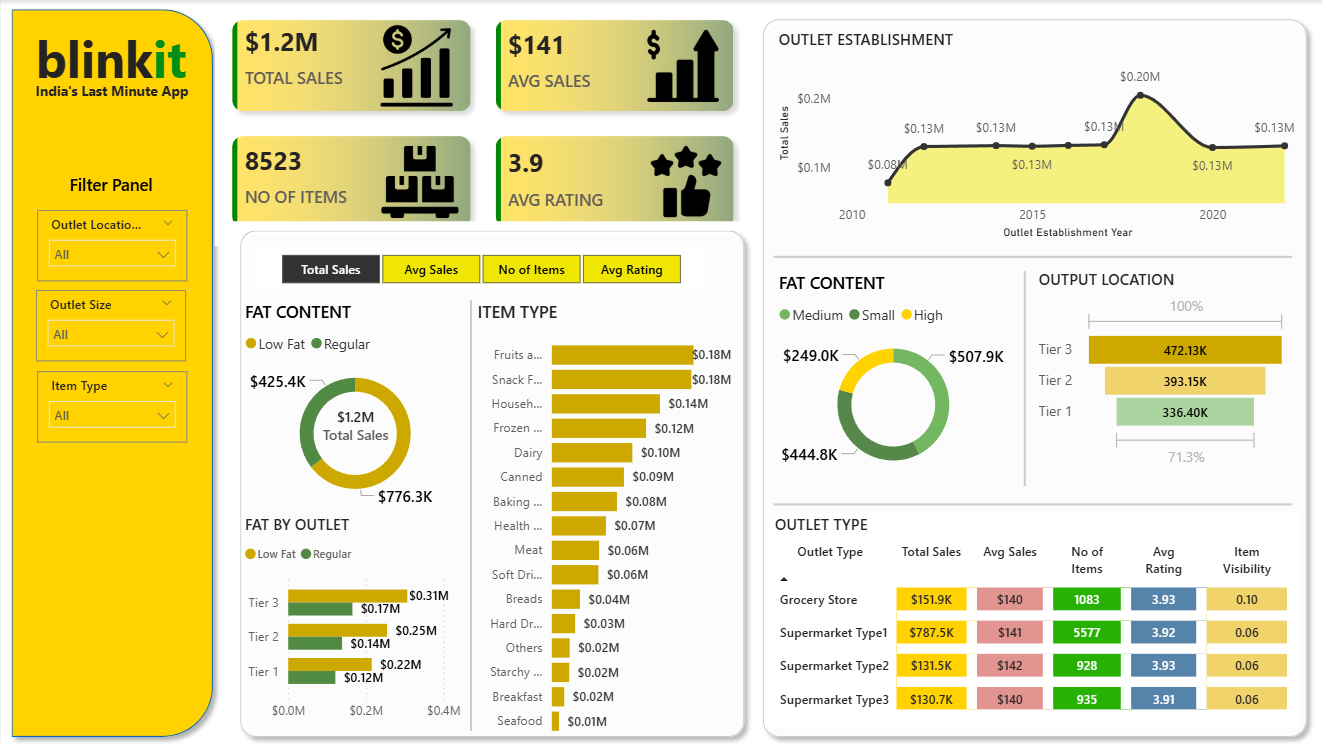

This screenshot's page, from the dashboard's own definition file:
{"tool":"powerbi","page":{"name":"Page 1","canvas":[1280,720],"ordinal":0},"visuals":[{"type":"shape","box":[1.2,0,212.3,720.2],"z":0},{"type":"textbox","box":[0,18.1,212.6,86],"z":1000},{"type":"textbox","box":[24.1,73.9,165.9,30.2],"z":2000},{"type":"cardVisual","fields":{"Data":["BlinkIT Grocery Data.Total Sales","BlinkIT Grocery Data.Avg Sales","BlinkIT Grocery Data.No of Items","BlinkIT Grocery Data.Avg Rating"]},"box":[200.3,1.2,520,235.3],"z":3000},{"type":"shape","box":[222,213.5,504.3,506.7],"z":4000},{"type":"donutChart","title":"FAT CONTENT","fields":{"Y":["BlinkIT Grocery Data.Total Sales"],"Category":["BlinkIT Grocery Data.Item Fat Content"]},"box":[904.8,340.2,231.6,206.3],"z":5000},{"type":"slicer","fields":{"Values":["Metrices.Metrices"]},"box":[244.9,238.9,435.5,41],"z":6000},{"type":"cardVisual","fields":{"Data":["BlinkIT Grocery Data.Total Sales"]},"box":[258.2,354.7,168.9,112.2],"z":7000},{"type":"clusteredBarChart","title":"FAT BY OUTLET","fields":{"Y":["BlinkIT Grocery Data.Total Sales"],"Category":["BlinkIT Grocery Data.Outlet Location Type"],"Series":["BlinkIT Grocery Data.Item Fat Content"]},"box":[230.4,495.8,224.4,207.5],"z":8000},{"type":"barChart","title":"ITEM TYPE","fields":{"Y":["BlinkIT Grocery Data.Total Sales"],"Category":["BlinkIT Grocery Data.Item Type"]},"box":[454.8,289.5,255.8,430.7],"z":9000},{"type":"shape","box":[726.3,9.7,542.9,710.6],"z":10000},{"type":"lineChart","title":"OUTLET ESTABLISHMENT","fields":{"Category":["BlinkIT Grocery Data.Outlet Establishment Year"],"Y":["BlinkIT Grocery Data.Total Sales"]},"box":[745.6,27.7,511.5,207.5],"z":11000},{"type":"donutChart","title":"FAT CONTENT","fields":{"Y":["BlinkIT Grocery Data.Total Sales"],"Category":["BlinkIT Grocery Data.Outlet Size"]},"box":[745.6,261.8,231.6,206.3],"z":12000},{"type":"donutChart","title":"FAT CONTENT","fields":{"Y":["BlinkIT Grocery Data.Total Sales"],"Category":["BlinkIT Grocery Data.Item Fat Content"]},"box":[230.4,289.5,223.2,206.3],"z":13000},{"type":"shape","box":[745.6,236.5,500.7,22.9],"z":14000},{"type":"shape","box":[446.4,289.5,14.5,416.2],"z":15000},{"type":"shape","box":[978.4,261.8,19.3,207.5],"z":16000},{"type":"funnel","title":"OUTPUT LOCATION","fields":{"Y":["Sum(BlinkIT Grocery Data.Sales)"],"Category":["BlinkIT Grocery Data.Outlet Location Type"]},"box":[996.5,259.4,249.7,196.6],"z":17000},{"type":"shape","box":[745.6,475.3,500.7,22.9],"z":18000},{"type":"pivotTable","title":"OUTLET TYPE","fields":{"Rows":["BlinkIT Grocery Data.Outlet Type"],"Values":["BlinkIT Grocery Data.Total Sales","BlinkIT Grocery Data.Avg Sales","BlinkIT Grocery Data.No of Items","BlinkIT Grocery Data.Avg Rating","Avg(BlinkIT Grocery Data.Item Visibility)"]},"box":[742,495.8,511.5,207.5],"z":19000},{"type":"slicer","fields":{"Values":["BlinkIT Grocery Data.Outlet Location Type"]},"box":[35,202.7,144.8,68.8],"z":20000},{"type":"slicer","fields":{"Values":["BlinkIT Grocery Data.Outlet Size"]},"box":[33.8,279.9,144.8,68.8],"z":21000},{"type":"slicer","fields":{"Values":["BlinkIT Grocery Data.Item Type"]},"box":[35,358.3,144.8,68.8],"z":22000},{"type":"textbox","box":[49.5,161.7,113.4,31.4],"z":23000}]}

Visuals, with their boxes in screenshot pixels (x1, y1, x2, y2), scaled from the page's 1280x720 canvas onto the 1322x746 screenshot:
shape: (x1=1, y1=0, x2=221, y2=745)
textbox: (x1=0, y1=19, x2=220, y2=108)
textbox: (x1=25, y1=77, x2=196, y2=108)
cardVisual - BlinkIT Grocery Data.Total Sales x BlinkIT Grocery Data.Avg Sales: (x1=207, y1=1, x2=744, y2=245)
shape: (x1=229, y1=221, x2=750, y2=745)
"FAT CONTENT" donutChart: (x1=934, y1=352, x2=1174, y2=566)
slicer - Metrices.Metrices: (x1=253, y1=248, x2=703, y2=290)
cardVisual - BlinkIT Grocery Data.Total Sales: (x1=267, y1=368, x2=441, y2=484)
"FAT BY OUTLET" clusteredBarChart: (x1=238, y1=514, x2=470, y2=729)
"ITEM TYPE" barChart: (x1=470, y1=300, x2=734, y2=745)
shape: (x1=750, y1=10, x2=1311, y2=745)
"OUTLET ESTABLISHMENT" lineChart: (x1=770, y1=29, x2=1298, y2=244)
"FAT CONTENT" donutChart: (x1=770, y1=271, x2=1009, y2=485)
"FAT CONTENT" donutChart: (x1=238, y1=300, x2=468, y2=514)
shape: (x1=770, y1=245, x2=1287, y2=269)
shape: (x1=461, y1=300, x2=476, y2=731)
shape: (x1=1011, y1=271, x2=1030, y2=486)
"OUTPUT LOCATION" funnel: (x1=1029, y1=269, x2=1287, y2=472)
shape: (x1=770, y1=492, x2=1287, y2=516)
"OUTLET TYPE" pivotTable: (x1=766, y1=514, x2=1295, y2=729)
slicer - BlinkIT Grocery Data.Outlet Location Type: (x1=36, y1=210, x2=186, y2=281)
slicer - BlinkIT Grocery Data.Outlet Size: (x1=35, y1=290, x2=184, y2=361)
slicer - BlinkIT Grocery Data.Item Type: (x1=36, y1=371, x2=186, y2=443)
textbox: (x1=51, y1=168, x2=168, y2=200)
